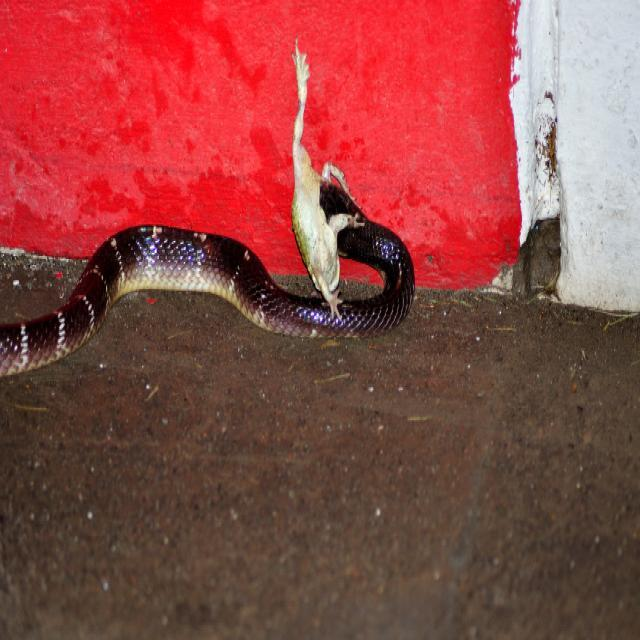Snake: (0, 34, 416, 378)
